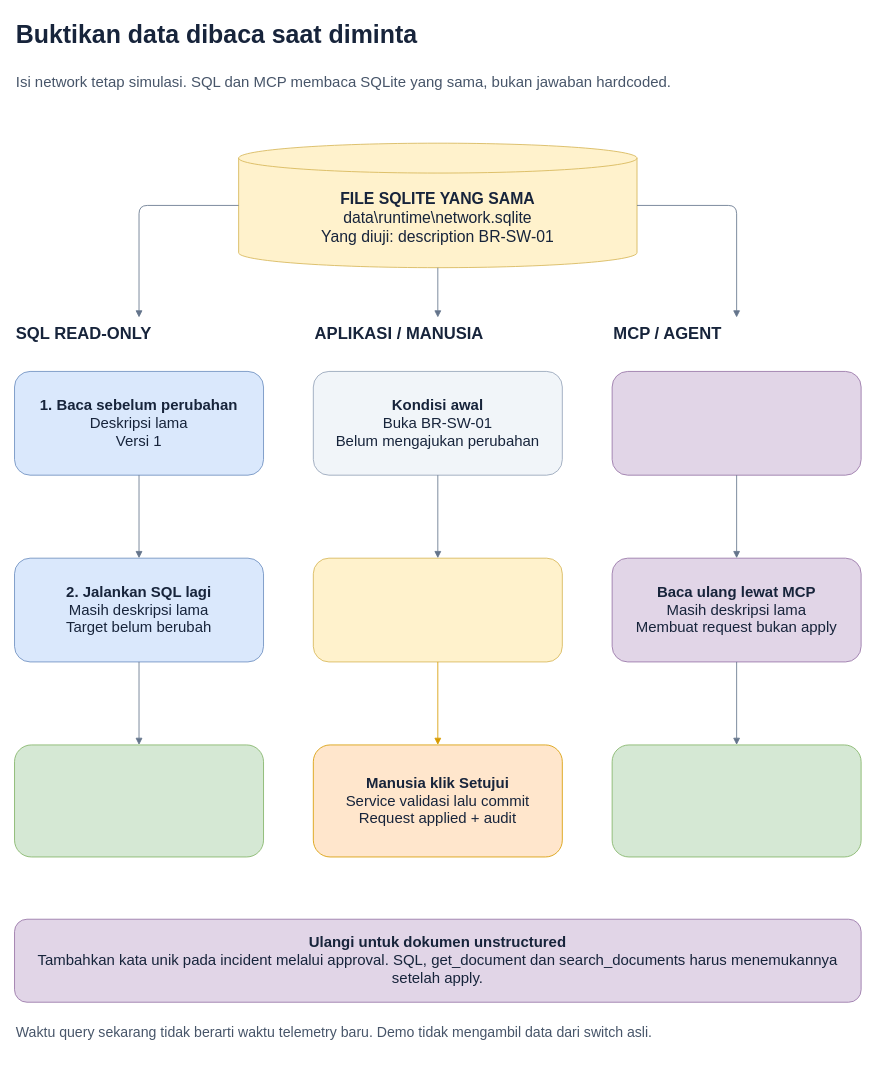
The diagram is 876 pixels wide and 1070 high, and some of its shapes have lost their labels. The shapes that lost their labels are listed below. From the top down, each one's box as (x1, y1, x2, y2) in pixels, then its label:
(611, 371, 861, 475): get_device membaca Deskripsi lama yang sama Versi 1
(312, 557, 562, 662): Ajukan request Target deskripsi: BUKTI-LIVE-... Status pending, belum approve
(14, 744, 264, 857): 3. SQL melihat nilai baru BUKTI-LIVE-... yang Anda pilih Versi 2
(611, 744, 861, 857): MCP melihat nilai baru Marker sama dengan SQL Versi 2, tanpa restart
